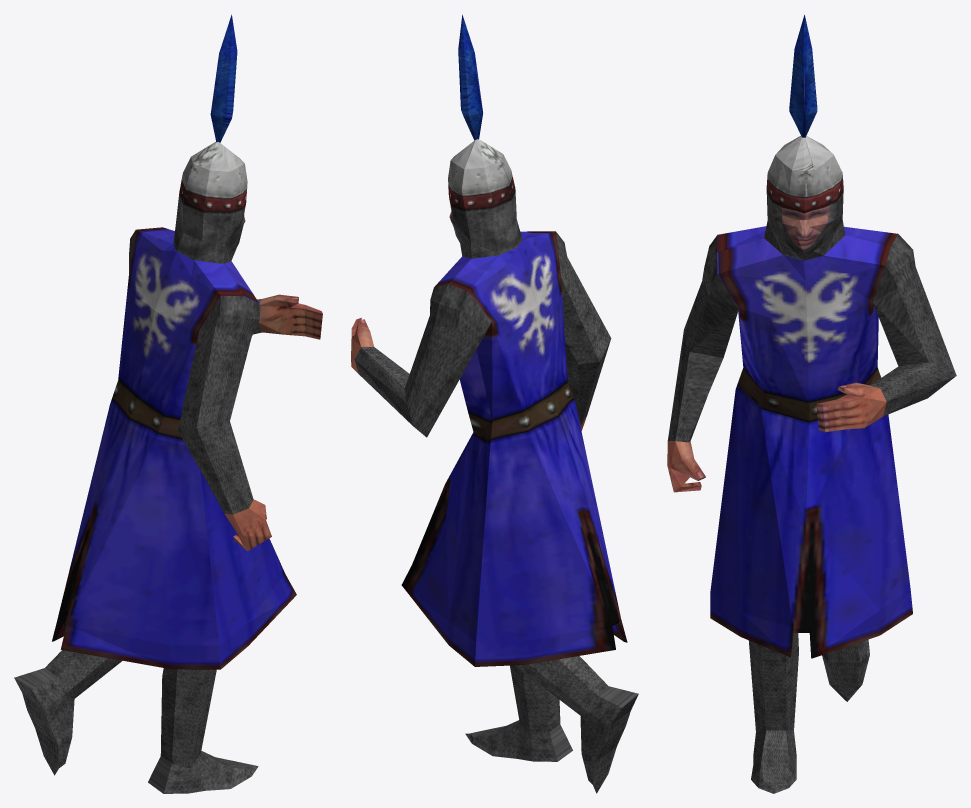
Rendered from guard_run3.obj.
The picture shows the model from 3 angles, left to right: view 1: azimuth 30°, elevation 25°; view 2: azimuth 150°, elevation 25°; view 3: azimuth 270°, elevation 25°; orthographic projection. The views are drawn at different scales.
Visible parts, largest first — view 1: Object_1; view 2: Object_1; view 3: Object_1.
Part boxes in pixels (<box>): Object_1: <box>14,14,322,793</box>; Object_1: <box>351,14,638,793</box>; Object_1: <box>667,15,956,793</box>.
Bounding box in the file's own units: 0.8794 × 2.18 × 0.7342.
Materials: 1 (1 with a texture image).
